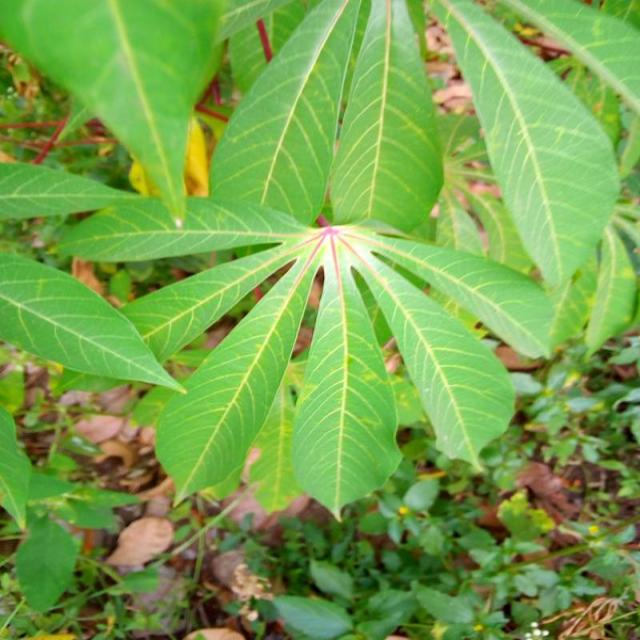cassava leaf: (1, 0, 630, 522), (430, 0, 621, 297), (0, 0, 224, 224), (290, 233, 402, 522), (0, 249, 186, 396)
